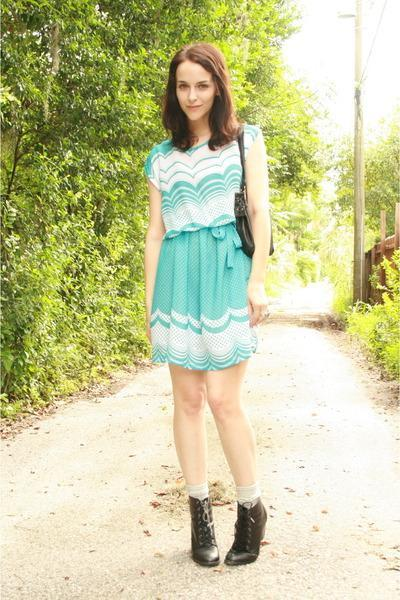bag: (230, 156, 255, 262)
dress: (144, 122, 267, 376)
shoe: (188, 496, 266, 567)
